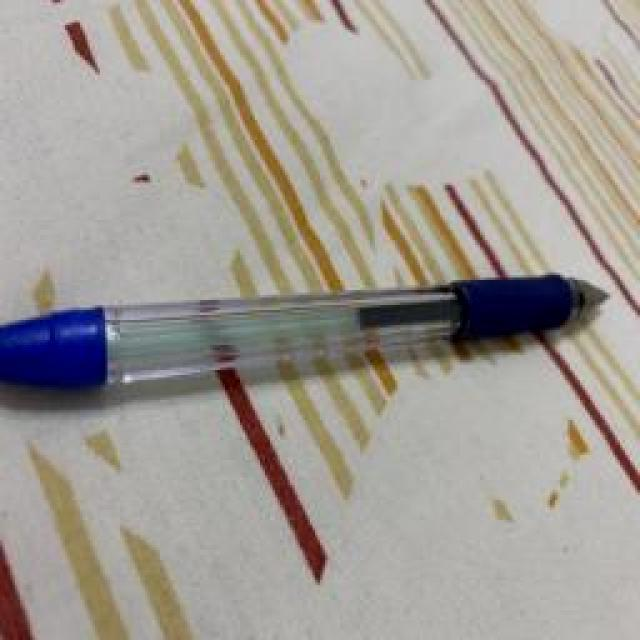pen: (0, 265, 610, 393)
